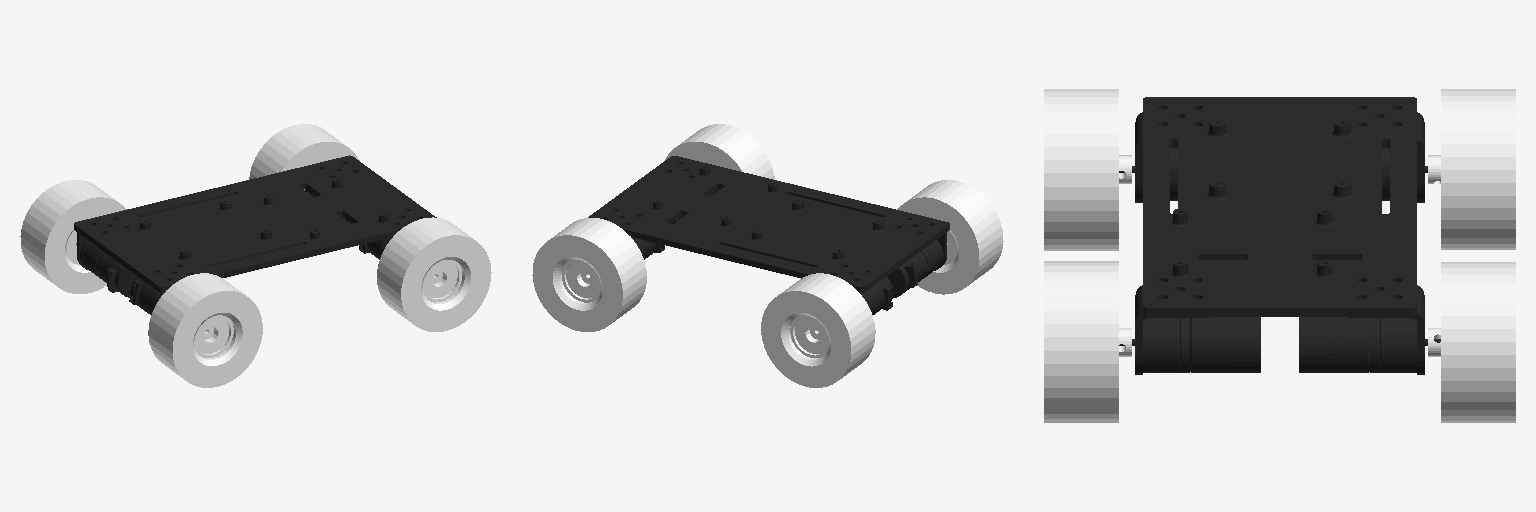
robot.urdf — 7503car:
<?xml version="1.0" encoding="utf-8"?>
<!-- This URDF was automatically created by SolidWorks to URDF Exporter! Originally created by Stephen Brawner (brawner@gmail.com) 
     Commit Version: 1.6.0-4-g7f85cfe  Build Version: 1.6.7995.38578
     For more information, please see http://wiki.ros.org/sw_urdf_exporter -->
<robot
  name="7503car">
  <link
    name="base_link">
    <inertial>
      <origin
        xyz="-2.1494E-05 -2.5414E-05 -0.0091632"
        rpy="0 0 0" />
      <mass
        value="0.19306" />
      <inertia
        ixx="9.3205E-05"
        ixy="2.1644E-07"
        ixz="8.7826E-09"
        iyy="0.00029353"
        iyz="2.2754E-08"
        izz="0.0003765" />
    </inertial>
    <visual>
      <origin
        xyz="0 0 0"
        rpy="0 0 0" />
      <geometry>
        <mesh
          filename="package://7503car/meshes/base_link.STL" />
      </geometry>
      <material
        name="">
        <color
          rgba="0.19608 0.19608 0.19608 1" />
      </material>
    </visual>
    <collision>
      <origin
        xyz="0 0 0"
        rpy="0 0 0" />
      <geometry>
        <mesh
          filename="package://7503car/meshes/base_link.STL" />
      </geometry>
    </collision>
  </link>
  <link
    name="Link_wheel_FL">
    <inertial>
      <origin
        xyz="-3.1891E-10 -0.00026264 -1.4882E-10"
        rpy="0 0 0" />
      <mass
        value="0.089494" />
      <inertia
        ixx="3.1634E-05"
        ixy="9.5265E-14"
        ixz="5.2601E-10"
        iyy="5.1307E-05"
        iyz="1.2092E-13"
        izz="3.1634E-05" />
    </inertial>
    <visual>
      <origin
        xyz="0 0 0"
        rpy="0 0 0" />
      <geometry>
        <mesh
          filename="package://7503car/meshes/Link_wheel_FL.STL" />
      </geometry>
      <material
        name="">
        <color
          rgba="1 1 1 1" />
      </material>
    </visual>
    <collision>
      <origin
        xyz="0 0 0"
        rpy="0 0 0" />
      <geometry>
        <mesh
          filename="package://7503car/meshes/Link_wheel_FL.STL" />
      </geometry>
    </collision>
  </link>
  <joint
    name="wheel_FL"
    type="continuous">
    <origin
      xyz="0.082 0.0795 -0.01975"
      rpy="0 0 0" />
    <parent
      link="base_link" />
    <child
      link="Link_wheel_FL" />
    <axis
      xyz="0 -1 0" />
  </joint>
  <link
    name="Link_wheel_FR">
    <inertial>
      <origin
        xyz="3.3816E-10 0.00026264 9.7462E-11"
        rpy="0 0 0" />
      <mass
        value="0.089494" />
      <inertia
        ixx="3.1635E-05"
        ixy="1.5127E-13"
        ixz="9.7265E-14"
        iyy="5.1307E-05"
        iyz="-2.8512E-14"
        izz="3.1634E-05" />
    </inertial>
    <visual>
      <origin
        xyz="0 0 0"
        rpy="0 0 0" />
      <geometry>
        <mesh
          filename="package://7503car/meshes/Link_wheel_FR.STL" />
      </geometry>
      <material
        name="">
        <color
          rgba="1 1 1 1" />
      </material>
    </visual>
    <collision>
      <origin
        xyz="0 0 0"
        rpy="0 0 0" />
      <geometry>
        <mesh
          filename="package://7503car/meshes/Link_wheel_FR.STL" />
      </geometry>
    </collision>
  </link>
  <joint
    name="wheel_FR"
    type="continuous">
    <origin
      xyz="0.082 -0.0795 -0.01975"
      rpy="0 0 0" />
    <parent
      link="base_link" />
    <child
      link="Link_wheel_FR" />
    <axis
      xyz="0 1 0" />
  </joint>
  <link
    name="Link_wheel_RR">
    <inertial>
      <origin
        xyz="3.3217E-10 0.00026264 1.1626E-10"
        rpy="0 0 0" />
      <mass
        value="0.089494" />
      <inertia
        ixx="3.1635E-05"
        ixy="1.5263E-13"
        ixz="5.9513E-11"
        iyy="5.1307E-05"
        iyz="-1.999E-14"
        izz="3.1634E-05" />
    </inertial>
    <visual>
      <origin
        xyz="0 0 0"
        rpy="0 0 0" />
      <geometry>
        <mesh
          filename="package://7503car/meshes/Link_wheel_RR.STL" />
      </geometry>
      <material
        name="">
        <color
          rgba="1 1 1 1" />
      </material>
    </visual>
    <collision>
      <origin
        xyz="0 0 0"
        rpy="0 0 0" />
      <geometry>
        <mesh
          filename="package://7503car/meshes/Link_wheel_RR.STL" />
      </geometry>
    </collision>
  </link>
  <joint
    name="wheel_RR"
    type="continuous">
    <origin
      xyz="-0.082 -0.0795 -0.01975"
      rpy="0 0 0" />
    <parent
      link="base_link" />
    <child
      link="Link_wheel_RR" />
    <axis
      xyz="0 1 0" />
  </joint>
  <link
    name="Link_wheel_RL">
    <inertial>
      <origin
        xyz="0 0 0"
        rpy="0 0 0" />
      <mass
        value="0" />
      <inertia
        ixx="0"
        ixy="0"
        ixz="0"
        iyy="0"
        iyz="0"
        izz="0" />
    </inertial>
    <visual>
      <origin
        xyz="0 0 0"
        rpy="0 0 0" />
      <geometry>
        <mesh
          filename="package://7503car/meshes/Link_wheel_RL.STL" />
      </geometry>
      <material
        name="">
        <color
          rgba="1 1 1 1" />
      </material>
    </visual>
    <collision>
      <origin
        xyz="0 0 0"
        rpy="0 0 0" />
      <geometry>
        <mesh
          filename="package://7503car/meshes/Link_wheel_RL.STL" />
      </geometry>
    </collision>
  </link>
  <joint
    name="wheel_RL"
    type="continuous">
    <origin
      xyz="-0.082 0.0795 -0.01975"
      rpy="0 0 0" />
    <parent
      link="base_link" />
    <child
      link="Link_wheel_RL" />
    <axis
      xyz="0 -1 0" />
  </joint>
</robot>

--- Facts derived from the render (not from the file) ---
3 views of the same robot in one strip: view 1: azimuth 30°, elevation 25°; view 2: azimuth 150°, elevation 25°; view 3: azimuth 270°, elevation 25° (orthographic).
Robot: 7503car — 5 links, 4 joints (4 continuous); root link base_link; default pose: all joints at 0.
Links seen in each view (by area): view 1: base_link, Link_wheel_FR, Link_wheel_RR, Link_wheel_RL, Link_wheel_FL; view 2: base_link, Link_wheel_RL, Link_wheel_FL, Link_wheel_RR, Link_wheel_FR; view 3: base_link, Link_wheel_FR, Link_wheel_RR, Link_wheel_RL, Link_wheel_FL.
Link boxes in pixels (bbox=[...]): base_link: bbox=[74, 155, 436, 314]; Link_wheel_FR: bbox=[377, 217, 491, 331]; Link_wheel_RR: bbox=[148, 273, 262, 387]; Link_wheel_RL: bbox=[20, 180, 126, 293]; Link_wheel_FL: bbox=[249, 124, 359, 189]; base_link: bbox=[588, 156, 949, 314]; Link_wheel_RL: bbox=[761, 273, 875, 387]; Link_wheel_FL: bbox=[532, 218, 646, 331]; Link_wheel_RR: bbox=[897, 180, 1003, 294]; Link_wheel_FR: bbox=[665, 124, 774, 179]; base_link: bbox=[1119, 97, 1440, 374]; Link_wheel_FR: bbox=[1044, 261, 1131, 422]; Link_wheel_RR: bbox=[1044, 89, 1131, 250]; Link_wheel_RL: bbox=[1428, 89, 1515, 249]; Link_wheel_FL: bbox=[1428, 262, 1515, 422].
Size in the robot's own frame: 0.2289 by 0.189 by 0.065 metres.
5 mesh visuals loaded from 5 distinct referenced files (5 binary STL).
